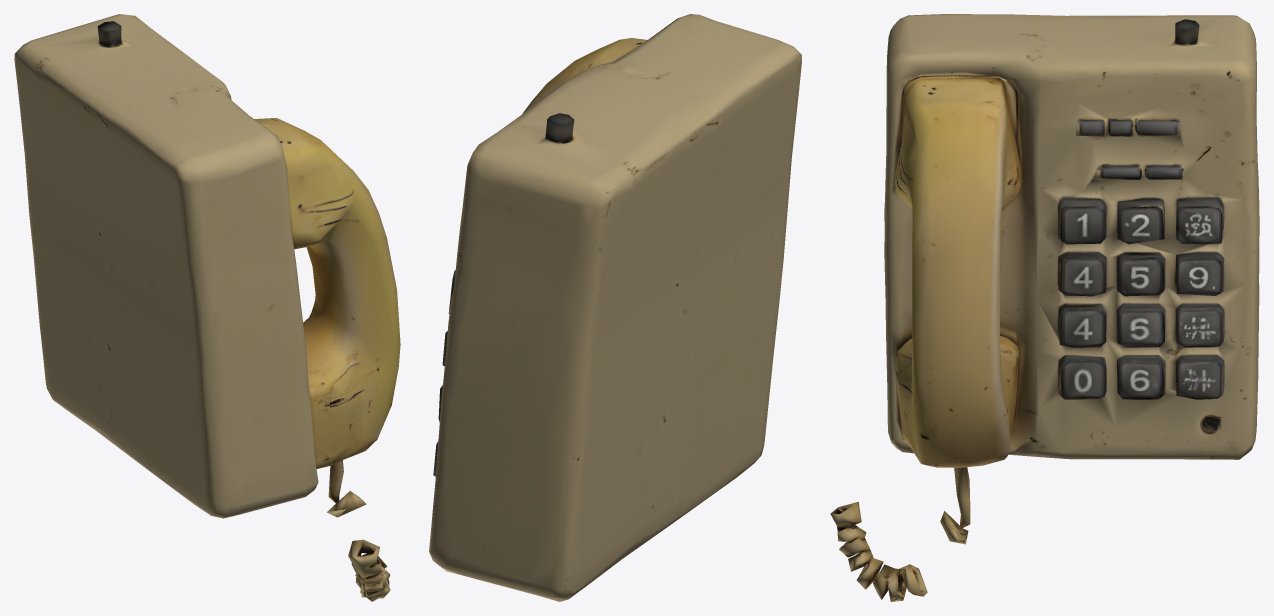
The model's file is telefono.glb.
3 views of the same model, side by side, from view 1: azimuth 30°, elevation 25°; view 2: azimuth 150°, elevation 25°; view 3: azimuth 270°, elevation 25° (orthographic). The views are drawn at different scales.
Parts seen in each view (by area): view 1: tripo_node_eecc8943-e55f-493b-8791-12cbb356ad39; view 2: tripo_node_eecc8943-e55f-493b-8791-12cbb356ad39; view 3: tripo_node_eecc8943-e55f-493b-8791-12cbb356ad39.
Part boxes in pixels (x1=…): tripo_node_eecc8943-e55f-493b-8791-12cbb356ad39: x1=14, y1=14, x2=400, y2=601; tripo_node_eecc8943-e55f-493b-8791-12cbb356ad39: x1=429, y1=14, x2=801, y2=601; tripo_node_eecc8943-e55f-493b-8791-12cbb356ad39: x1=830, y1=14, x2=1259, y2=601.
Bounding box in the file's own units: 0.4909 × 0.9814 × 0.7396.
1 material, 1 textured.
